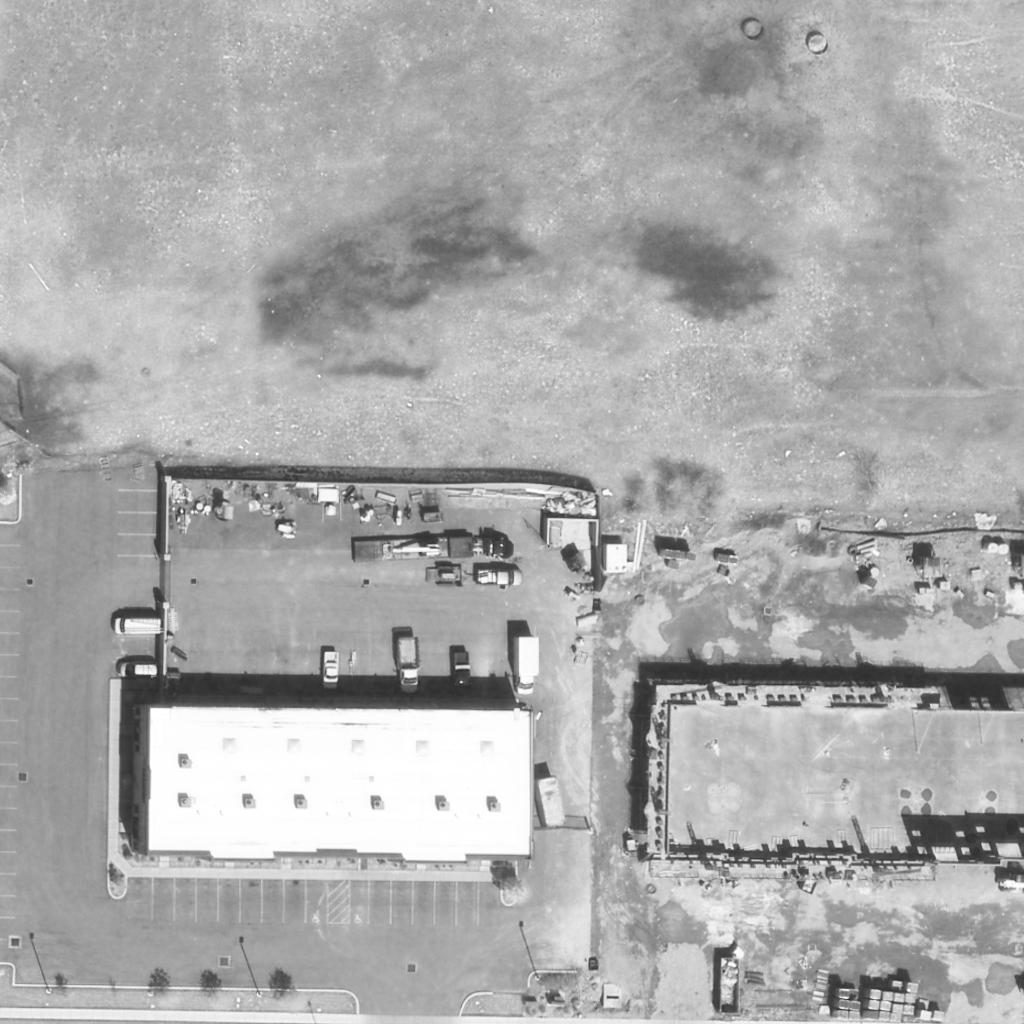vehicle: (351, 537, 515, 563), (396, 637, 422, 695), (448, 651, 476, 701), (517, 638, 541, 692), (113, 618, 163, 636), (115, 663, 161, 681), (321, 651, 341, 691), (478, 569, 522, 587)
